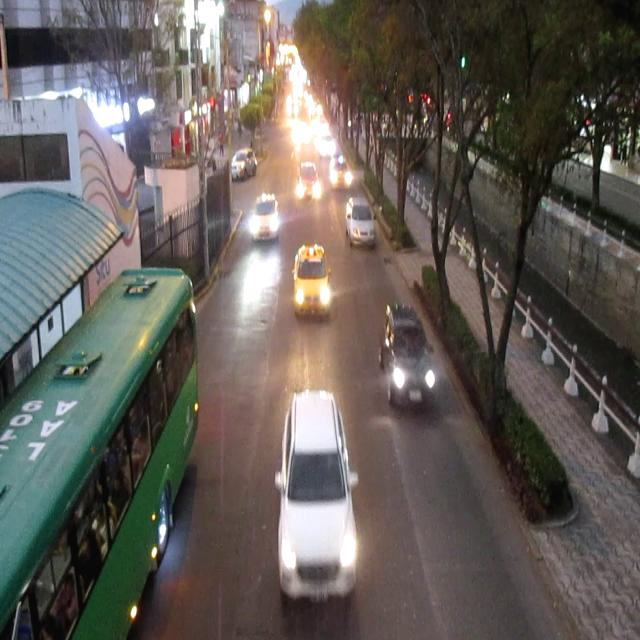BUS: (3, 269, 203, 638)
SUV: (232, 152, 256, 182)
